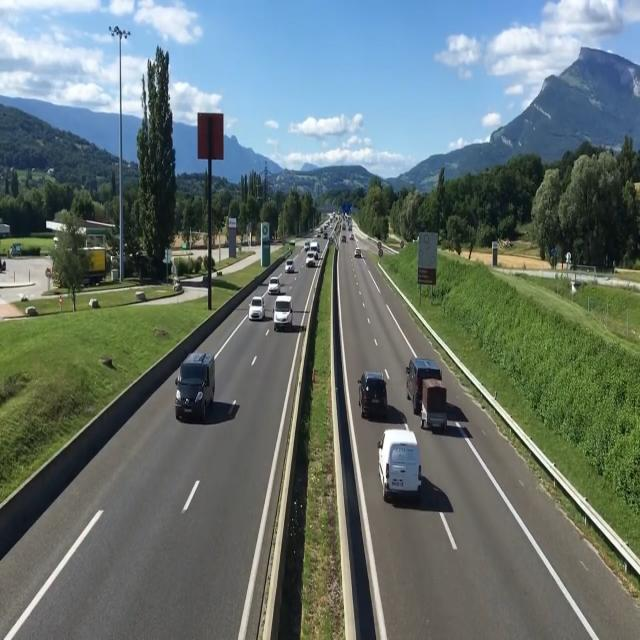car: (175, 343, 215, 427), (410, 356, 450, 436), (357, 368, 389, 424), (273, 289, 298, 334), (247, 291, 265, 325), (268, 275, 282, 296), (282, 256, 296, 276), (305, 250, 318, 270)
